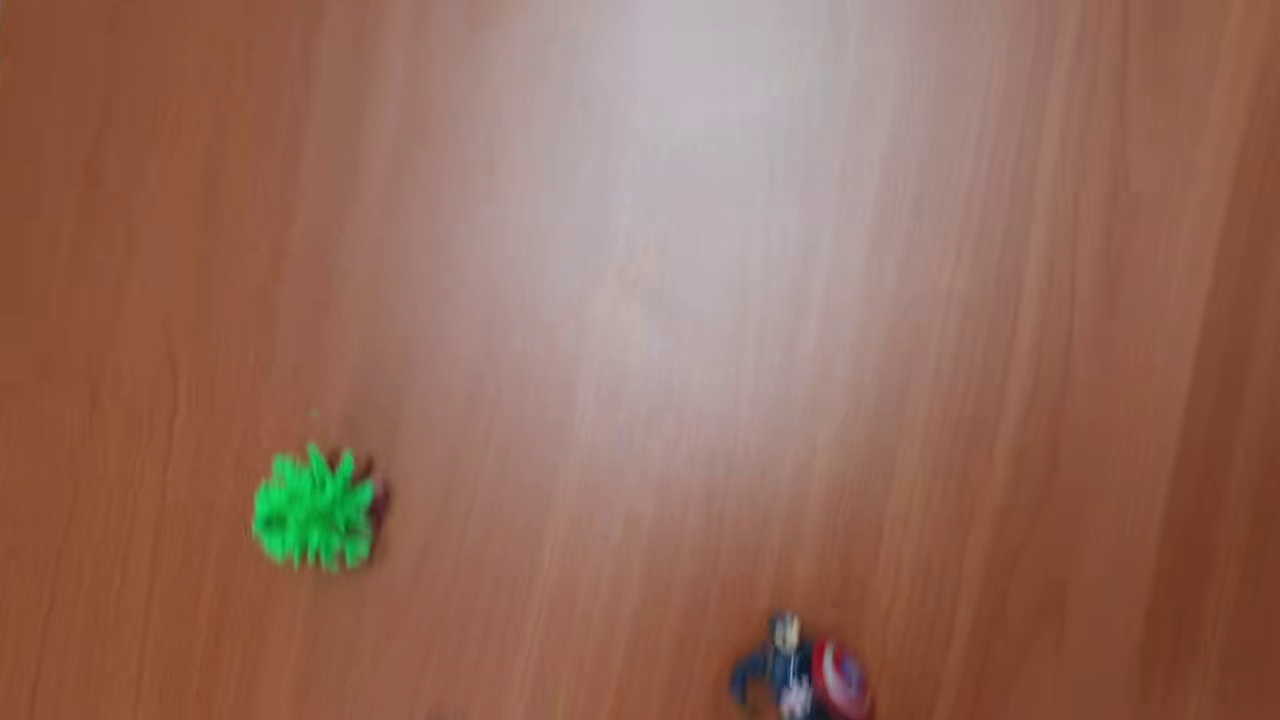people: (722, 610, 877, 720)
tree: (243, 441, 391, 576)
